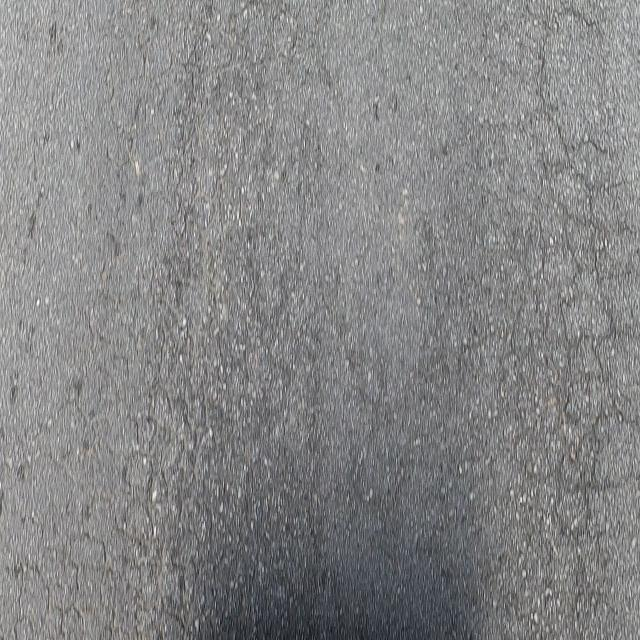Retak-Buaya: (1, 182, 261, 640), (474, 2, 638, 613)
